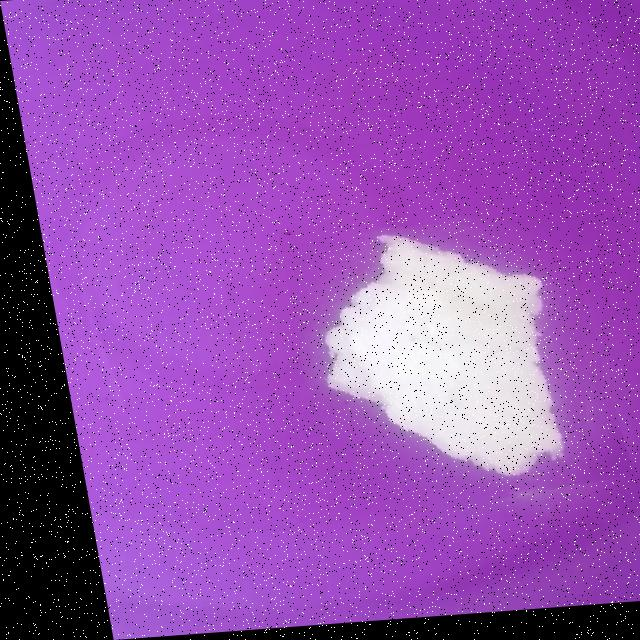litter: (269, 220, 620, 532)
